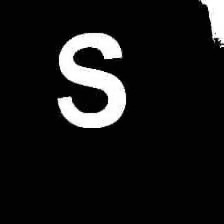LTR_S: (56, 27, 126, 130)
